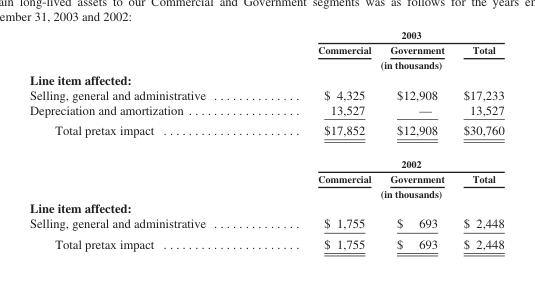table: (28, 28, 503, 250)
table column: (28, 28, 261, 250), (261, 28, 379, 250), (379, 28, 453, 250), (453, 28, 503, 250)
table column header: (28, 28, 503, 71)
table projected row header: (28, 199, 503, 215), (28, 71, 503, 86)
table row: (28, 119, 503, 147), (28, 147, 503, 170), (28, 101, 503, 119), (28, 215, 503, 233), (28, 233, 503, 250), (28, 170, 503, 186), (28, 199, 503, 215), (28, 42, 503, 57), (28, 71, 503, 86), (28, 86, 503, 101), (28, 28, 503, 42), (28, 57, 503, 71), (28, 186, 503, 199)
table spanning cell: (261, 147, 503, 170), (261, 28, 503, 42), (261, 57, 503, 71), (261, 186, 503, 199)
